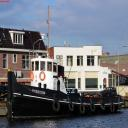tugboat: (7, 50, 126, 123)
